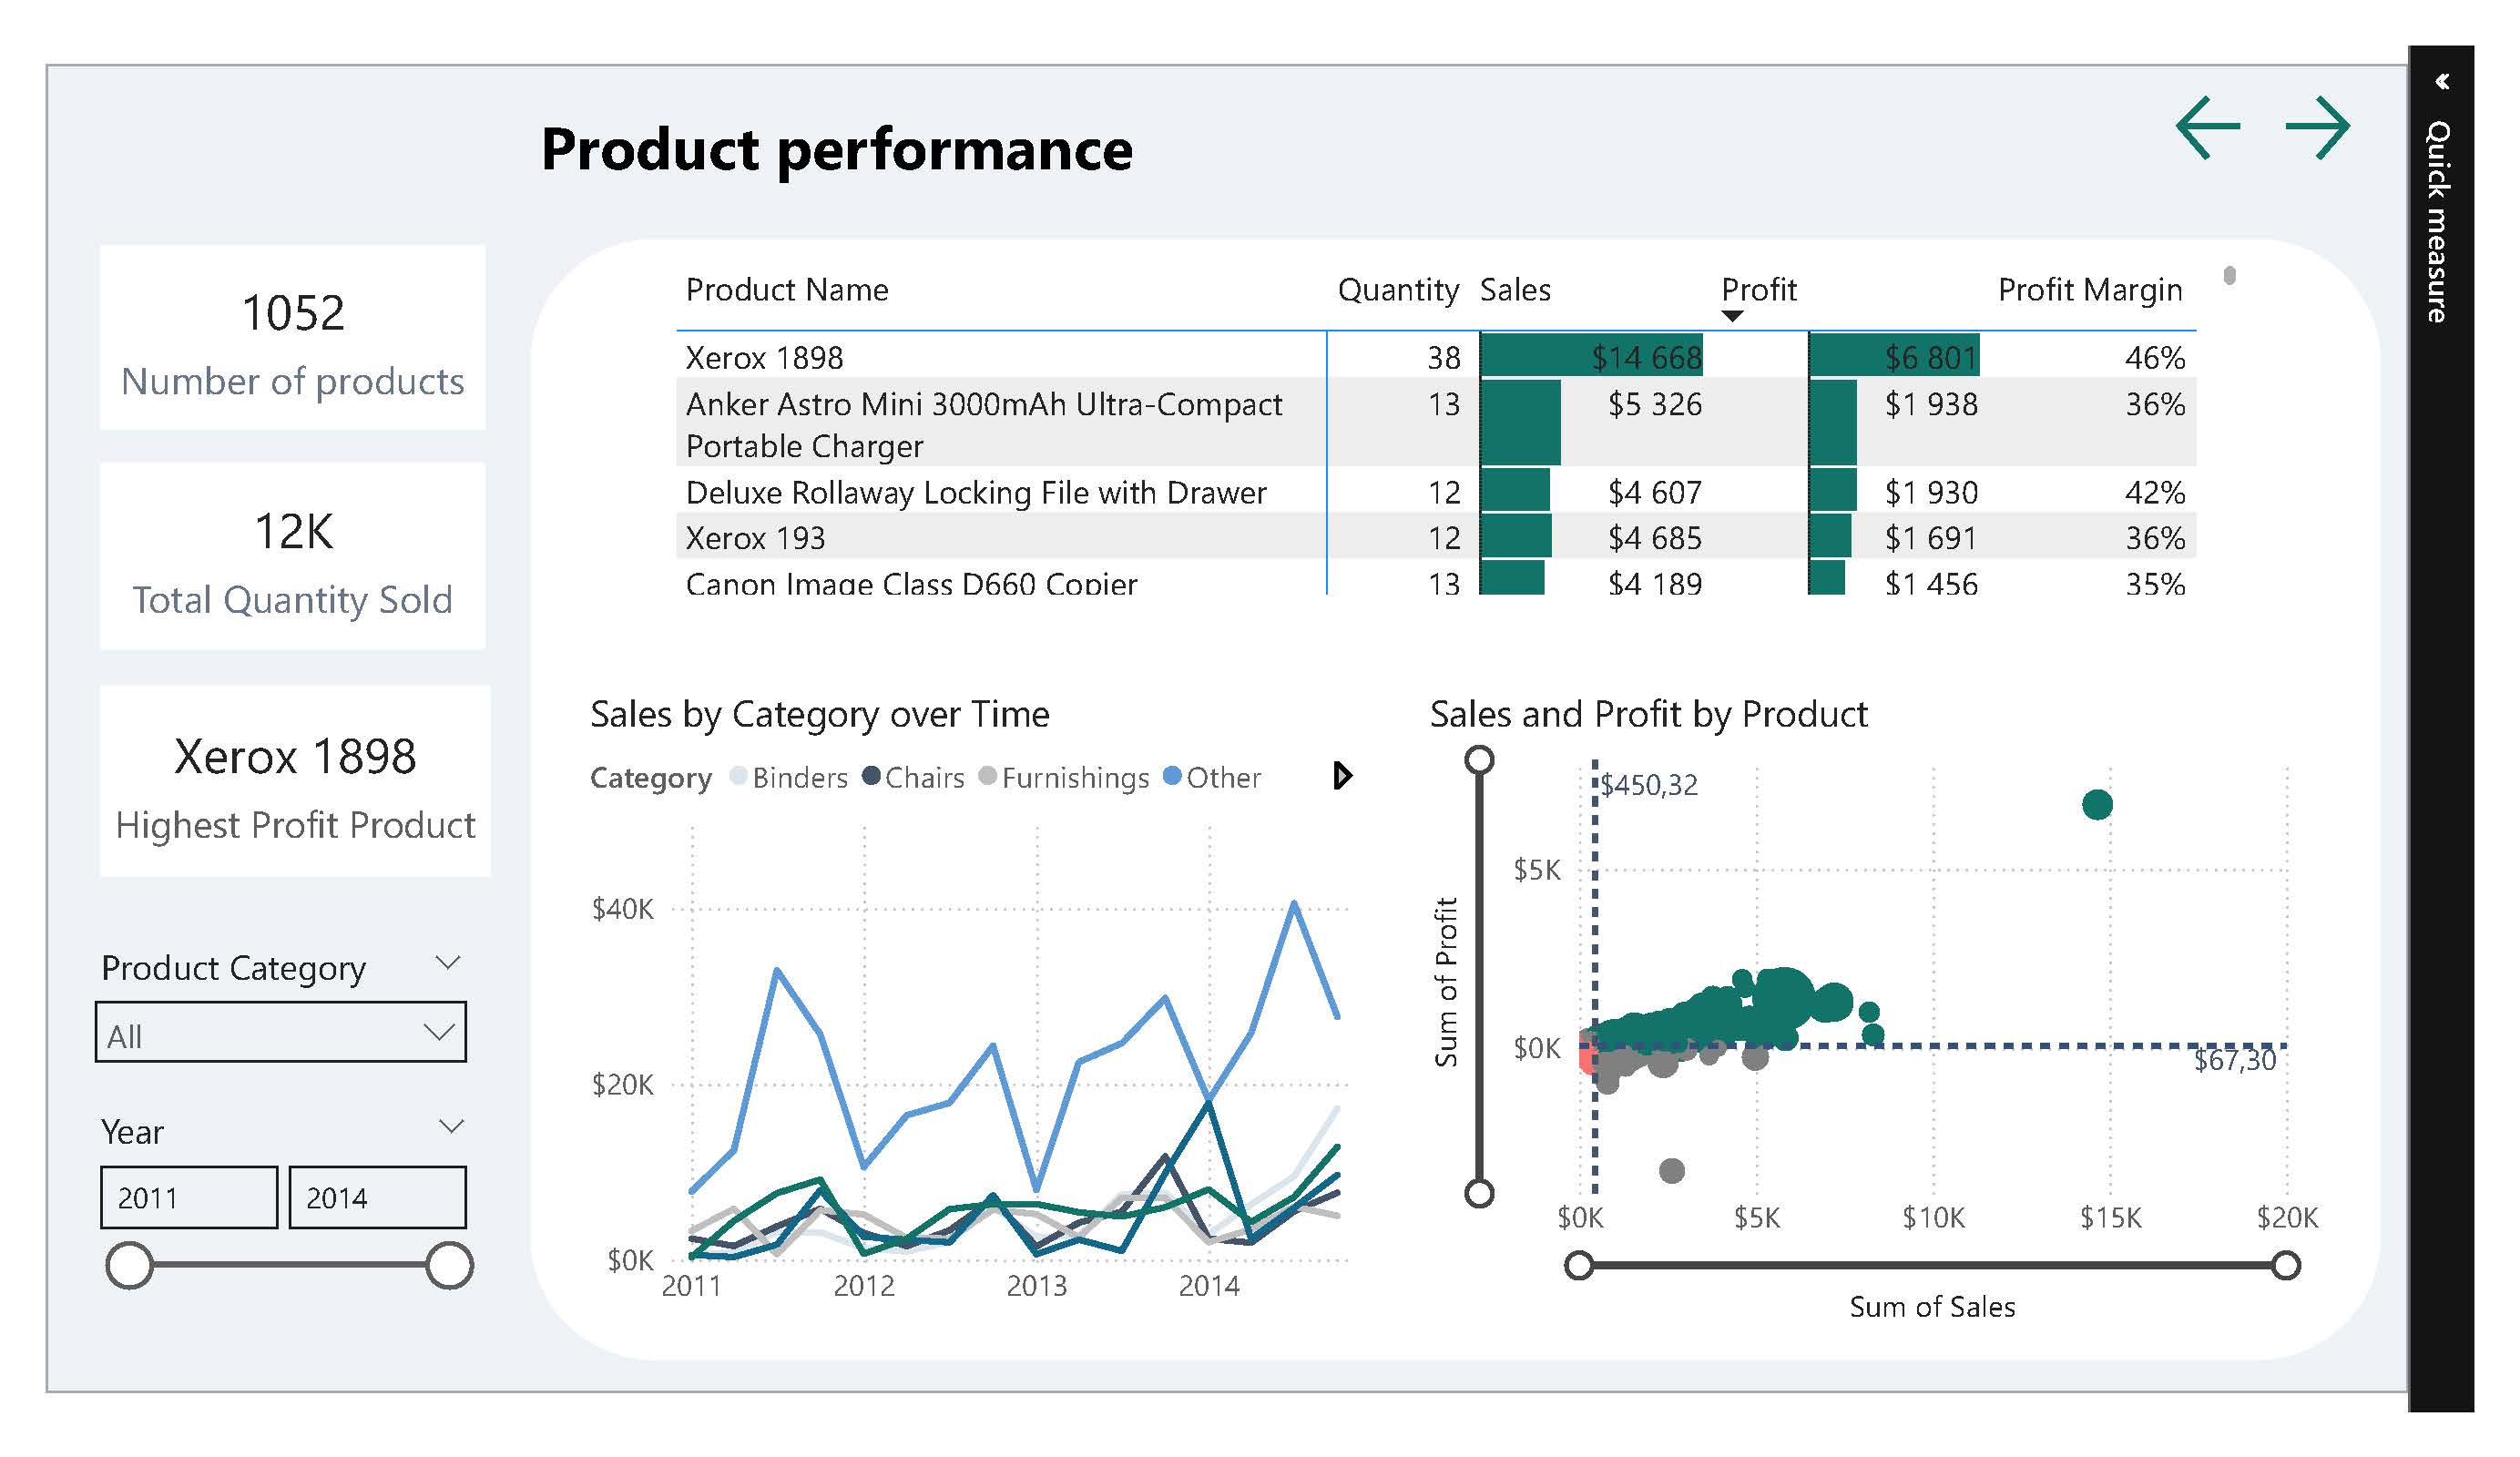

What the dashboard file says about the page in this screenshot:
{"tool":"powerbi","page":{"name":"Product","canvas":[1280,720],"ordinal":1},"visuals":[{"type":"shape","box":[0,0,1280,720],"z":0},{"type":"shape","box":[263.3,95,1001.7,606.7],"z":1000},{"type":"textbox","box":[263.3,17.3,397.2,53.6],"z":3000},{"type":"scatterChart","title":"Sales and Profit by Product","fields":{"X":["Sum(Sales.Sales)"],"Y":["Sum(Sales.Profit)"],"Category":["Product.Product Name"],"Size":["Sum(Sales.Quantity)"]},"box":[745,336.7,491.7,346.7],"z":5000},{"type":"slicer","fields":{"Values":["Product.Category"]},"box":[17.3,471.3,220.7,78.8],"z":7000},{"type":"slicer","fields":{"Values":["Sales.Order Date.Variation.Date Hierarchy.Year"]},"box":[16.7,560,223.3,160],"z":8000},{"type":"card","fields":{"Values":["Sum(Sales.Quantity)"]},"box":[30,216,208.1,100.9],"z":9000},{"type":"card","fields":{"Values":["Count(Product.Product Name)"]},"box":[30,98.3,208.3,100],"z":10000},{"type":"pivotTable","fields":{"Rows":["Product.Product Name"],"Values":["Sum(Sales.Quantity)","Sum(Sales.Sales)","Sum(Sales.Profit)","Sales.ProfitMargin"]},"box":[336.7,103.3,856.7,188.3],"z":12000},{"type":"actionButton","box":[1208.3,11.7,56.7,45],"z":13000},{"type":"lineChart","title":"Sales YOY% Change by Category","fields":{"Category":["Sales.Order Date.Variation.Date Hierarchy.Year","Sales.Order Date.Variation.Date Hierarchy.Quarter","Sales.Order Date.Variation.Date Hierarchy.Month","Sales.Order Date.Variation.Date Hierarchy.Day"],"Series":["Product.Category (groups)"],"Y":["Sales.Sum of Sales YoY%"]},"box":[290,336.7,431.7,346.7],"z":14000},{"type":"actionButton","box":[1150,11.7,50,45],"z":15000},{"type":"card","fields":{"Values":["Sales.MaxProfitProduct"]},"box":[30,337.3,211.2,102.5],"z":16000}]}

Visuals, with their boxes on the page's 1280x720 design canvas (x1, y1, x2, y2). These are canvas units, not pixel positions in the 2520x1457 screenshot, which may show the page scaled, cropped or inside an application window:
shape: [0,0,1280,720]
shape: [263,95,1265,702]
textbox: [263,17,660,71]
"Sales and Profit by Product" scatterChart: [745,337,1237,683]
slicer - Product.Category: [17,471,238,550]
slicer - Sales.Order Date.Variation.Date Hierarchy.Year: [17,560,240,720]
card - Sum(Sales.Quantity): [30,216,238,317]
card - Count(Product.Product Name): [30,98,238,198]
pivotTable - Product.Product Name x Sum(Sales.Quantity): [337,103,1193,292]
actionButton: [1208,12,1265,57]
"Sales YOY% Change by Category" lineChart: [290,337,722,683]
actionButton: [1150,12,1200,57]
card - Sales.MaxProfitProduct: [30,337,241,440]
